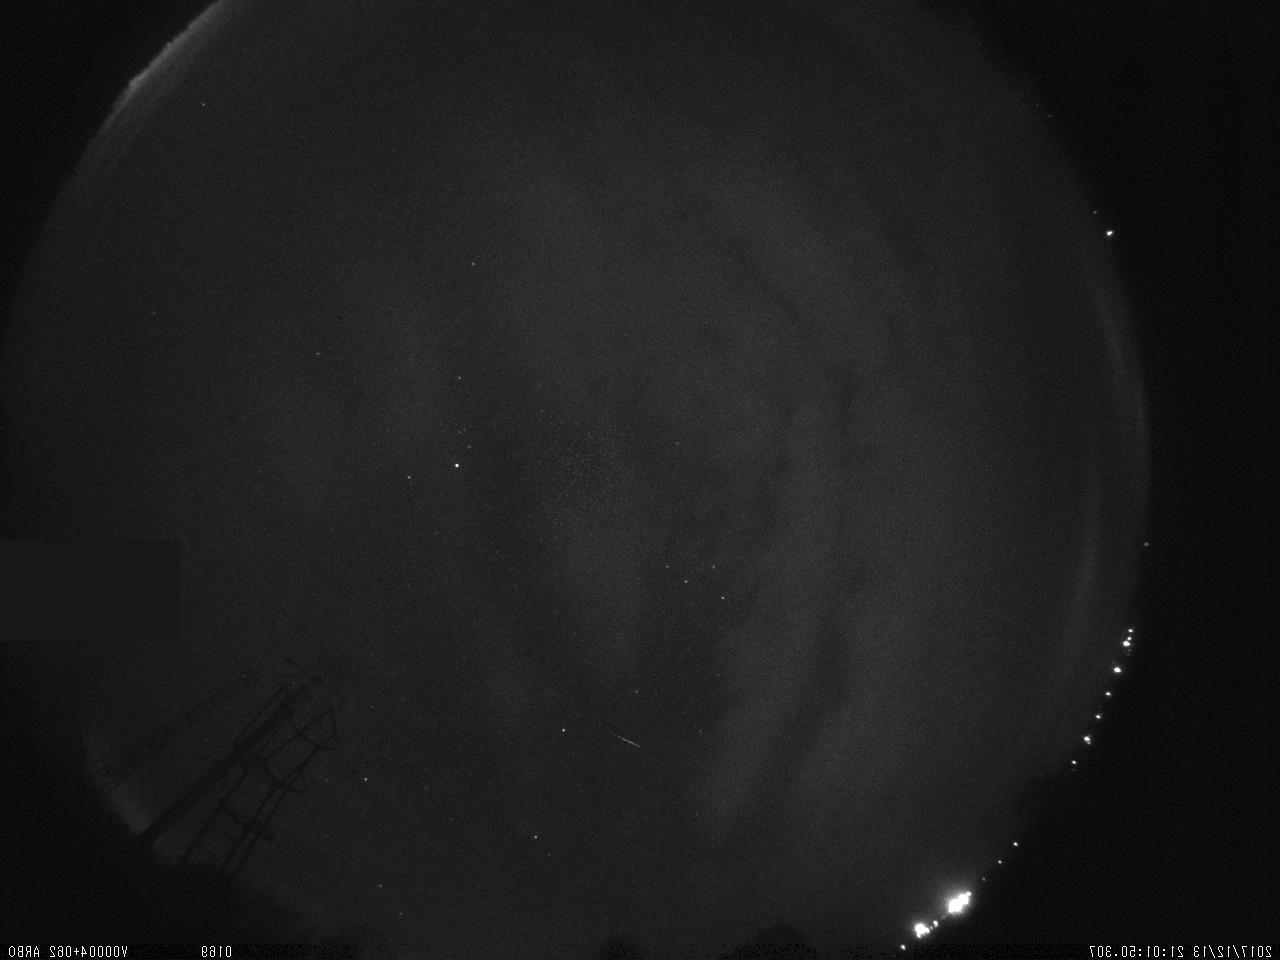meteor: (602, 723, 653, 762)
